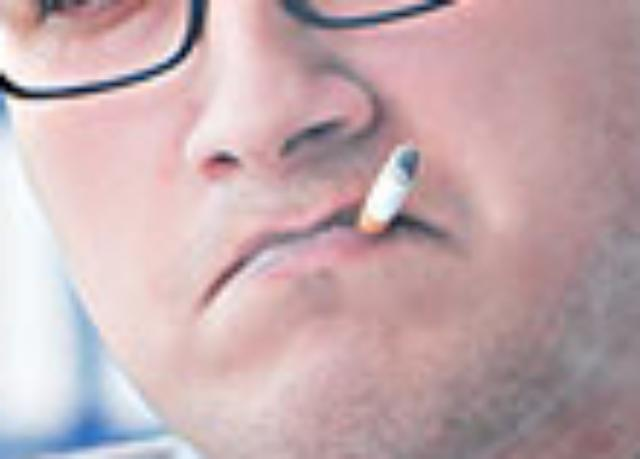Cigarette: (346, 143, 424, 255)
